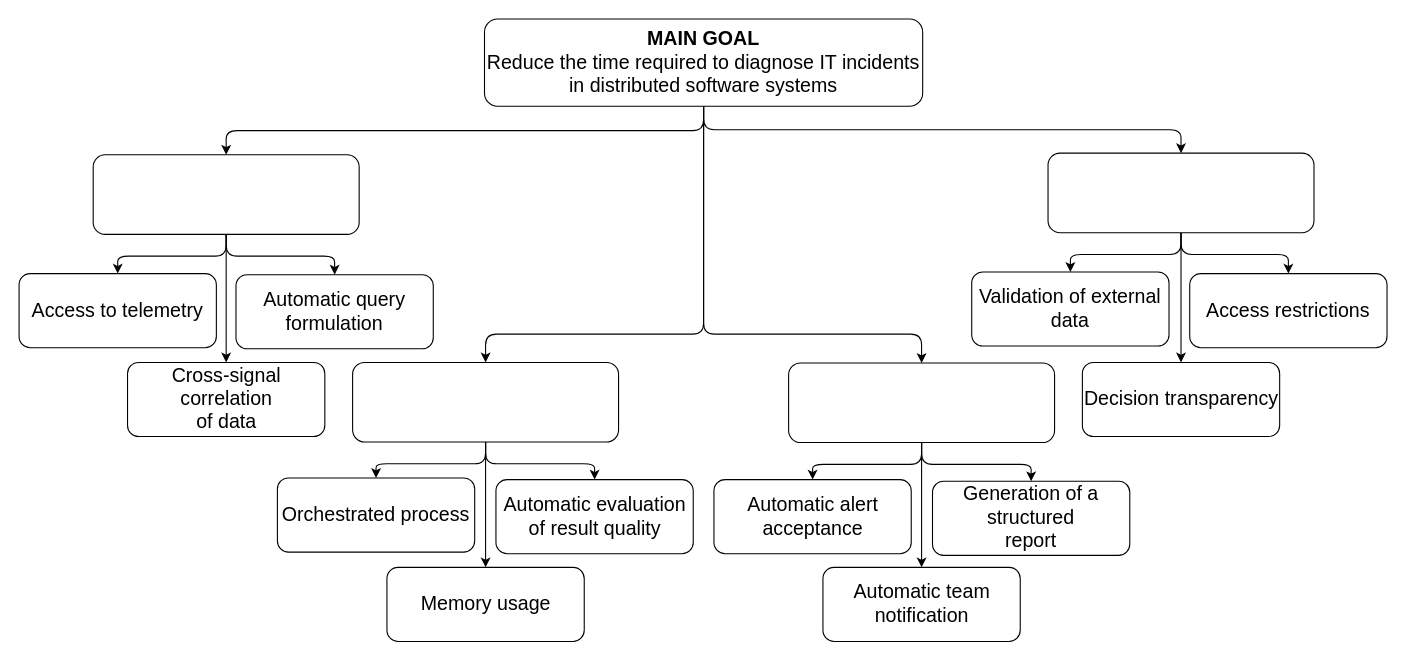
Some shapes in this 1406 by 661 pixel diagram are drawn without their labels. The shapes that lost their labels are listed below. From the top down, each one's centre as x and y in pixels, then its label:
pixel 225 194: Sub-goal 1 Automation of collection and telemetry analysis
pixel 1180 192: Sub-goal 4 Security and controllability
pixel 485 401: Sub-goal 2 Reliable diagnosis process
pixel 921 402: Sub-goal 3 Integration with response processes
